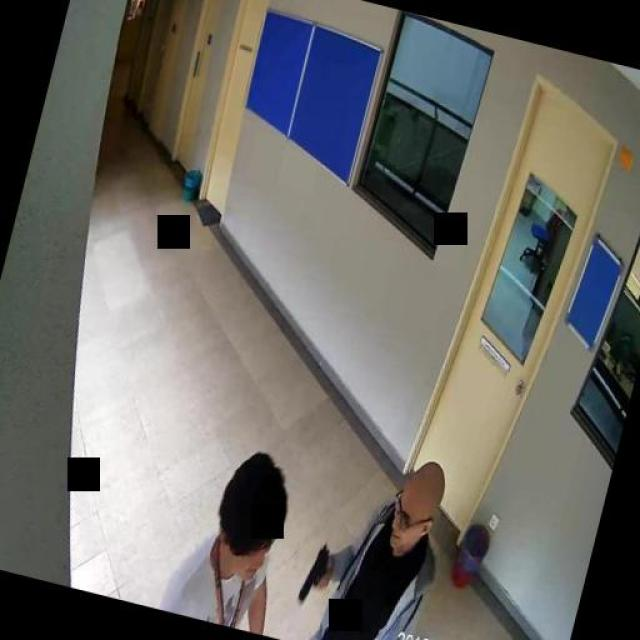gun: (295, 540, 335, 606)
